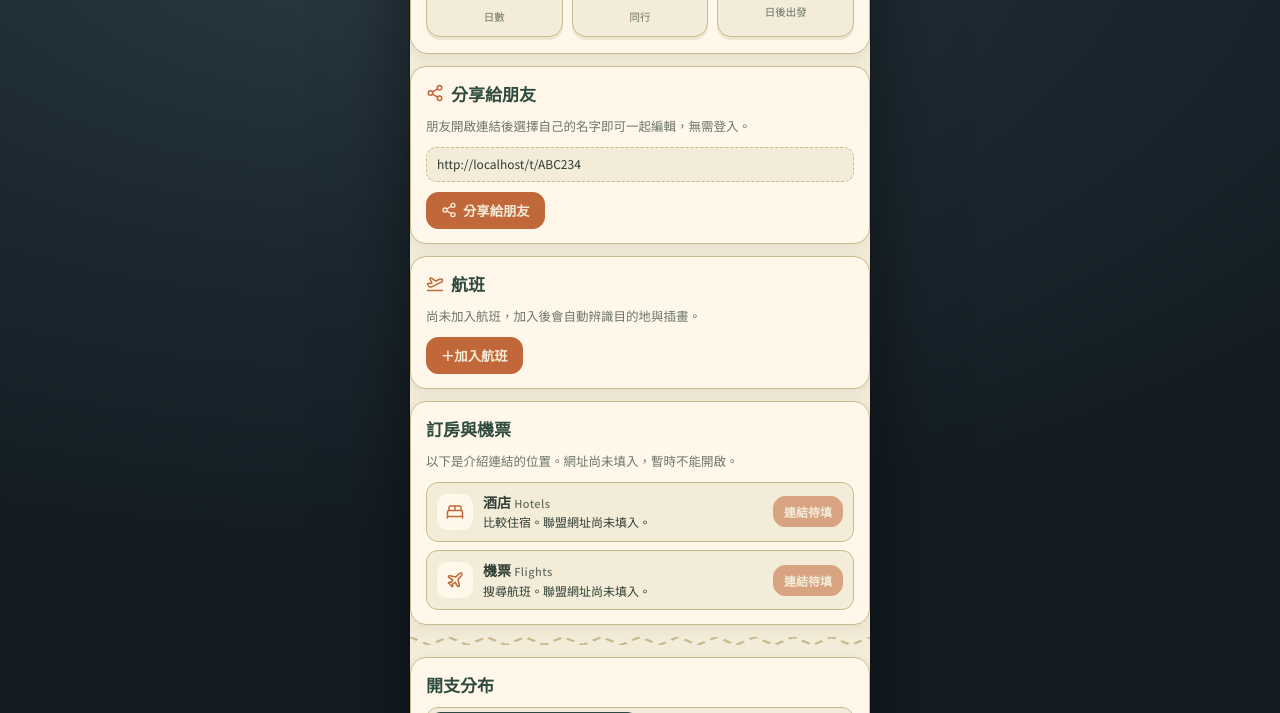
Scenario: Overview › opens the add-flight modal when the button is clicked
(page scrolled)
Click the button "＋加入航班": x=474, y=355 [426,337,523,374]
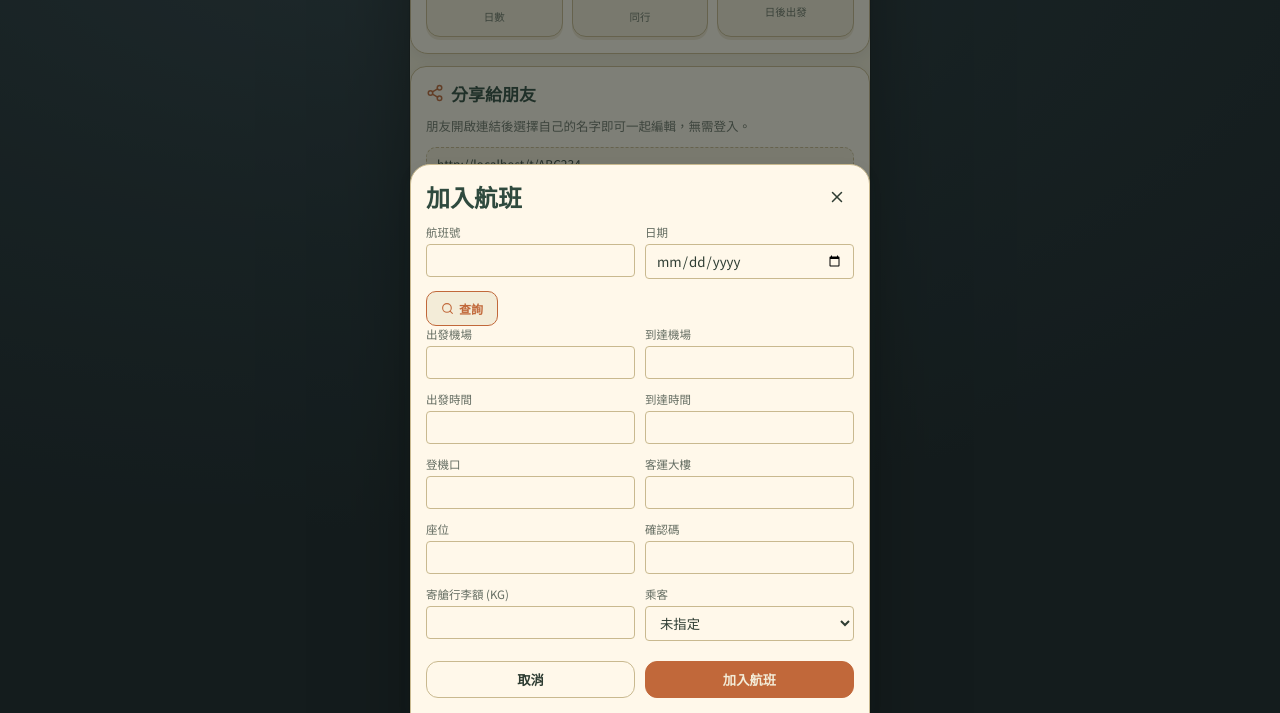
Now the heading "加入航班" is shown, box [426,179,522,214]
